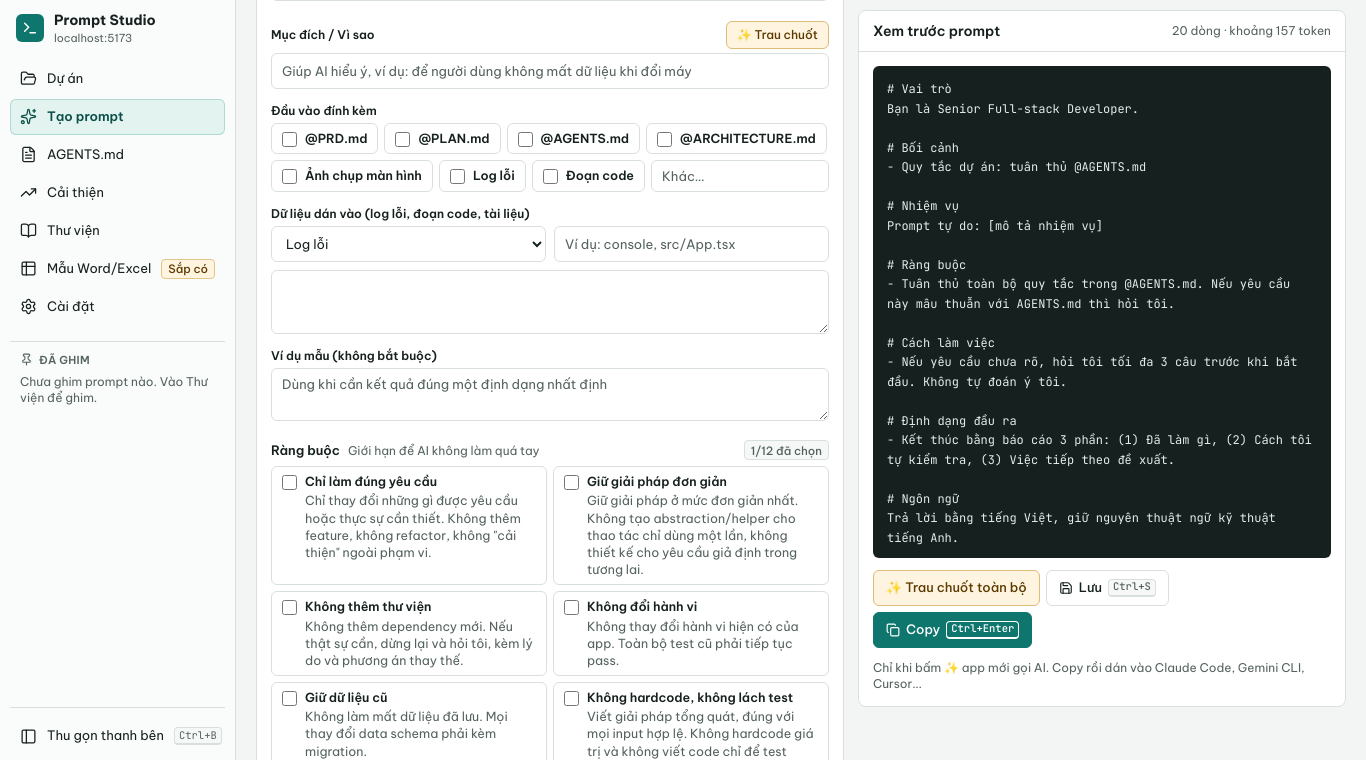
Test case: Trình tạo prompt › Copy bằng nút và Ctrl+Enter
Later steps or results of the test are not shown.
(page scrolled)
Click the button "Copy Ctrl+Enter": (953, 630) [873, 612, 1032, 648]
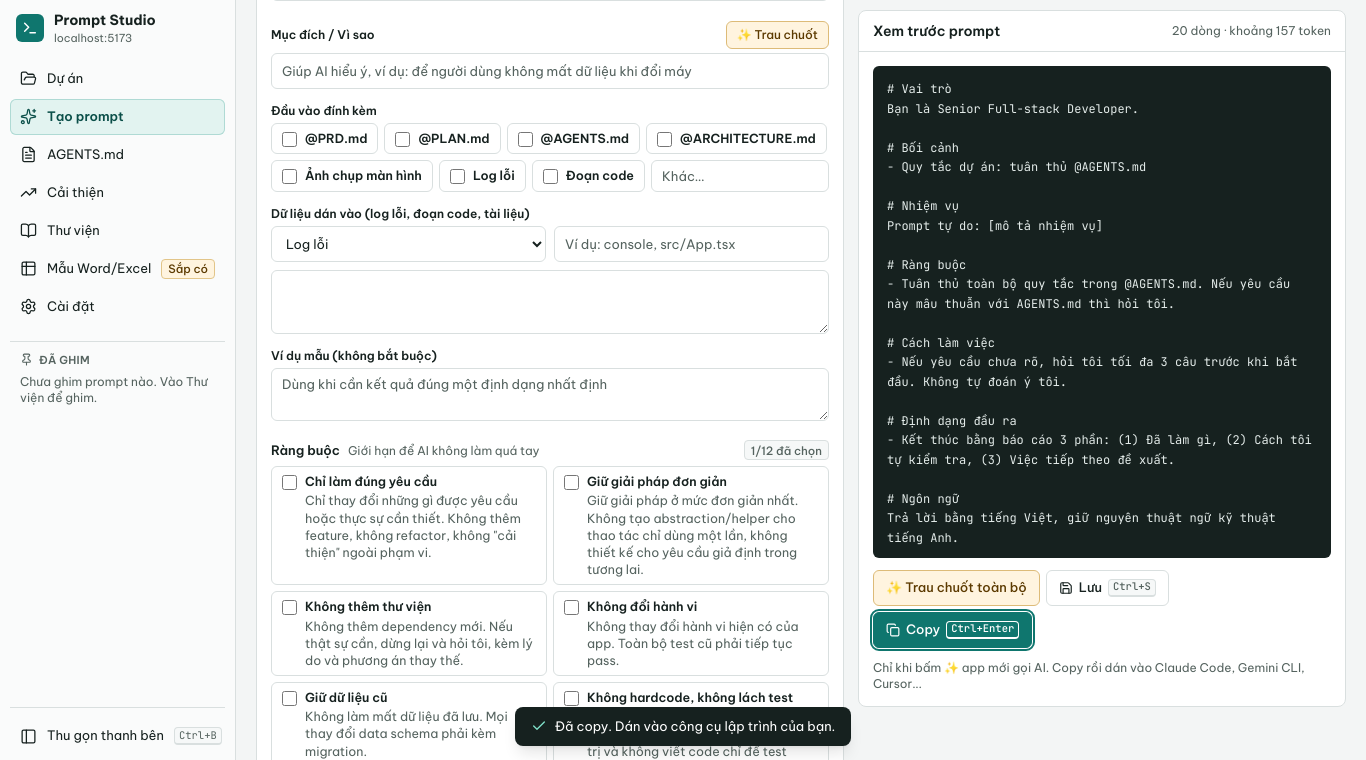
Check: the message shows "Đã copy", box [555, 718, 835, 734]
